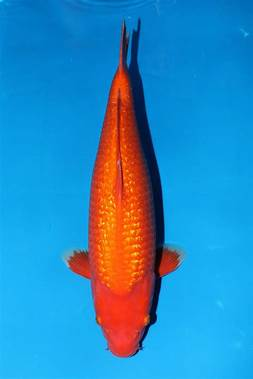red: (62, 19, 186, 357)
